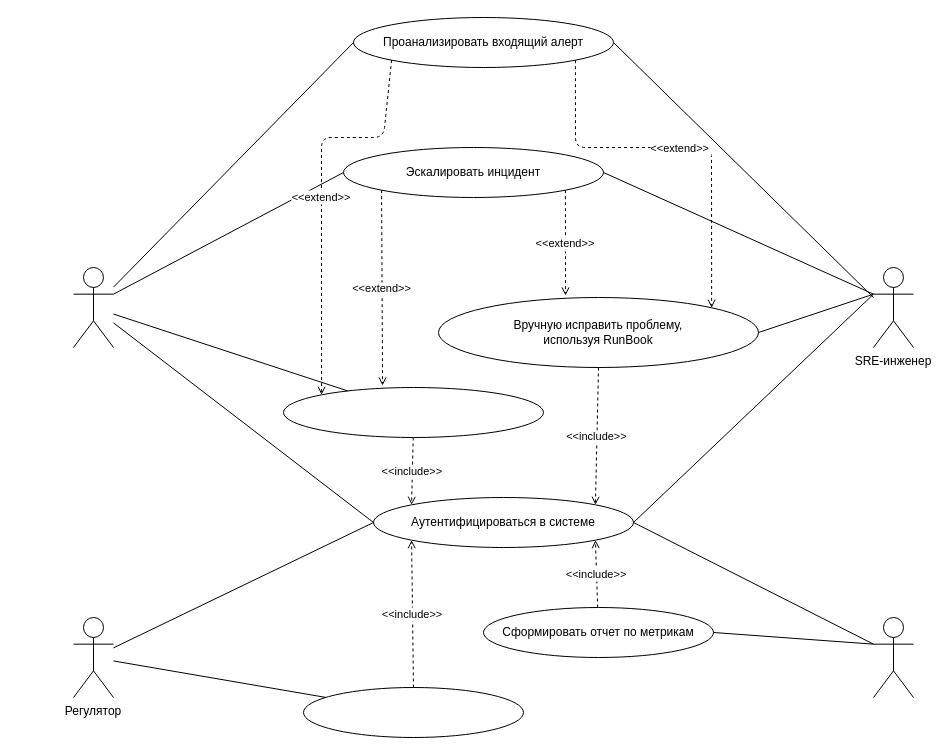
This 950x755 diagram has some shape labels left out. Each missing label, with the centre of its shape:
"CRO" goes at point (893, 657).
"Автоматически обработать алерт" goes at point (413, 412).
"Инструмент автоматизации" goes at point (93, 307).
"Проверить журнал действий" goes at point (413, 712).
